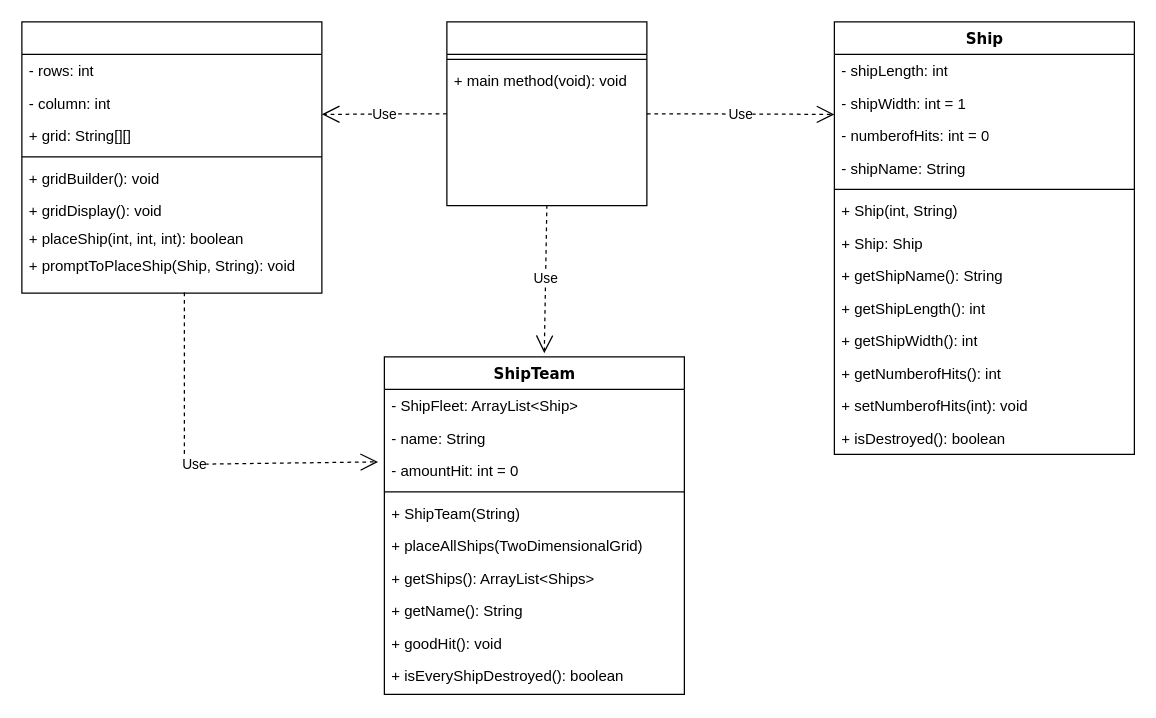
Image size: 1156x718. Some labels were removed from this diagram. The shapes that lost their labels are listed below. From the top down, each one's box as (x1, y1, x2, y2) in pixels, then its label:
(446, 21, 647, 206): StartProgram
(21, 21, 322, 293): TwoDimensionalGrid
